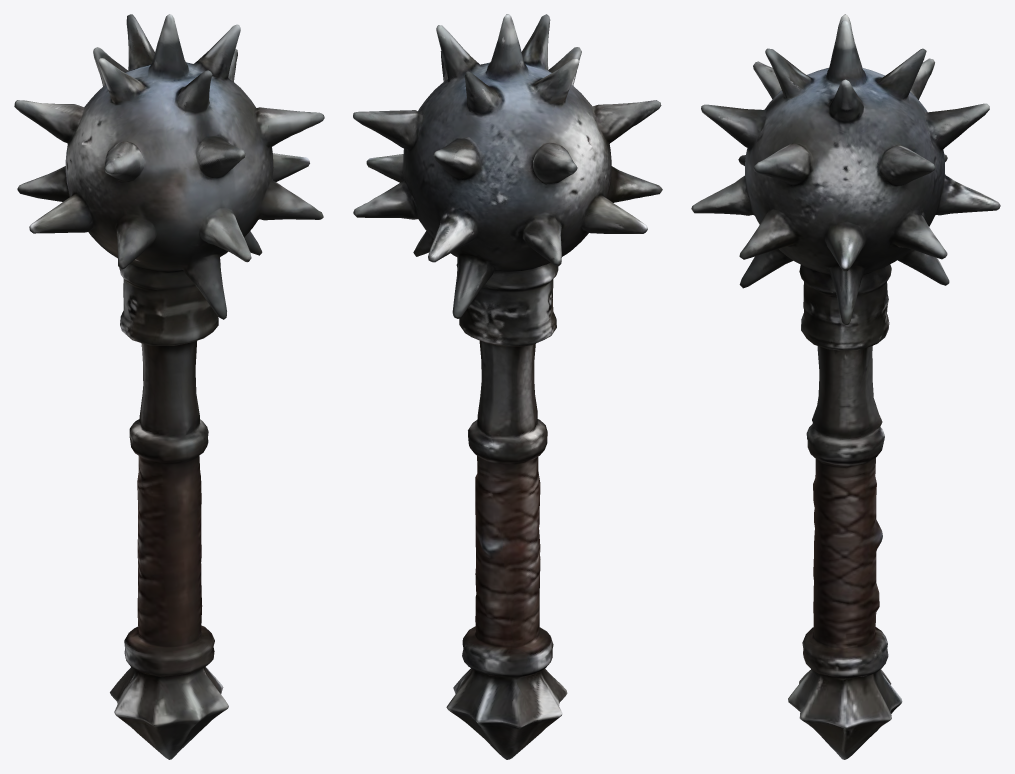
File: morning_star.glb
3 views of the same model, side by side, from view 1: azimuth 30°, elevation 25°; view 2: azimuth 150°, elevation 25°; view 3: azimuth 270°, elevation 25° (orthographic).
Visible parts, largest first — view 1: morning_star; view 2: morning_star; view 3: morning_star.
Part boxes in pixels (<box>): morning_star: <box>14,14,324,759</box>; morning_star: <box>353,14,662,759</box>; morning_star: <box>691,14,1000,759</box>.
Size of the model in its own units: 0.2889 by 0.7352 by 0.279.
Materials: 1 (1 with a texture image).
